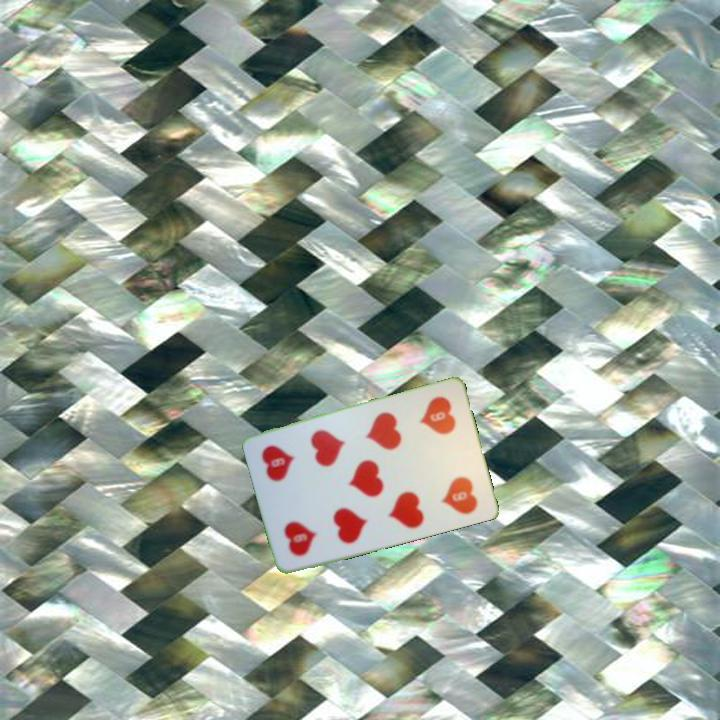h_9.png: (268, 486, 340, 565), (400, 387, 472, 466)
